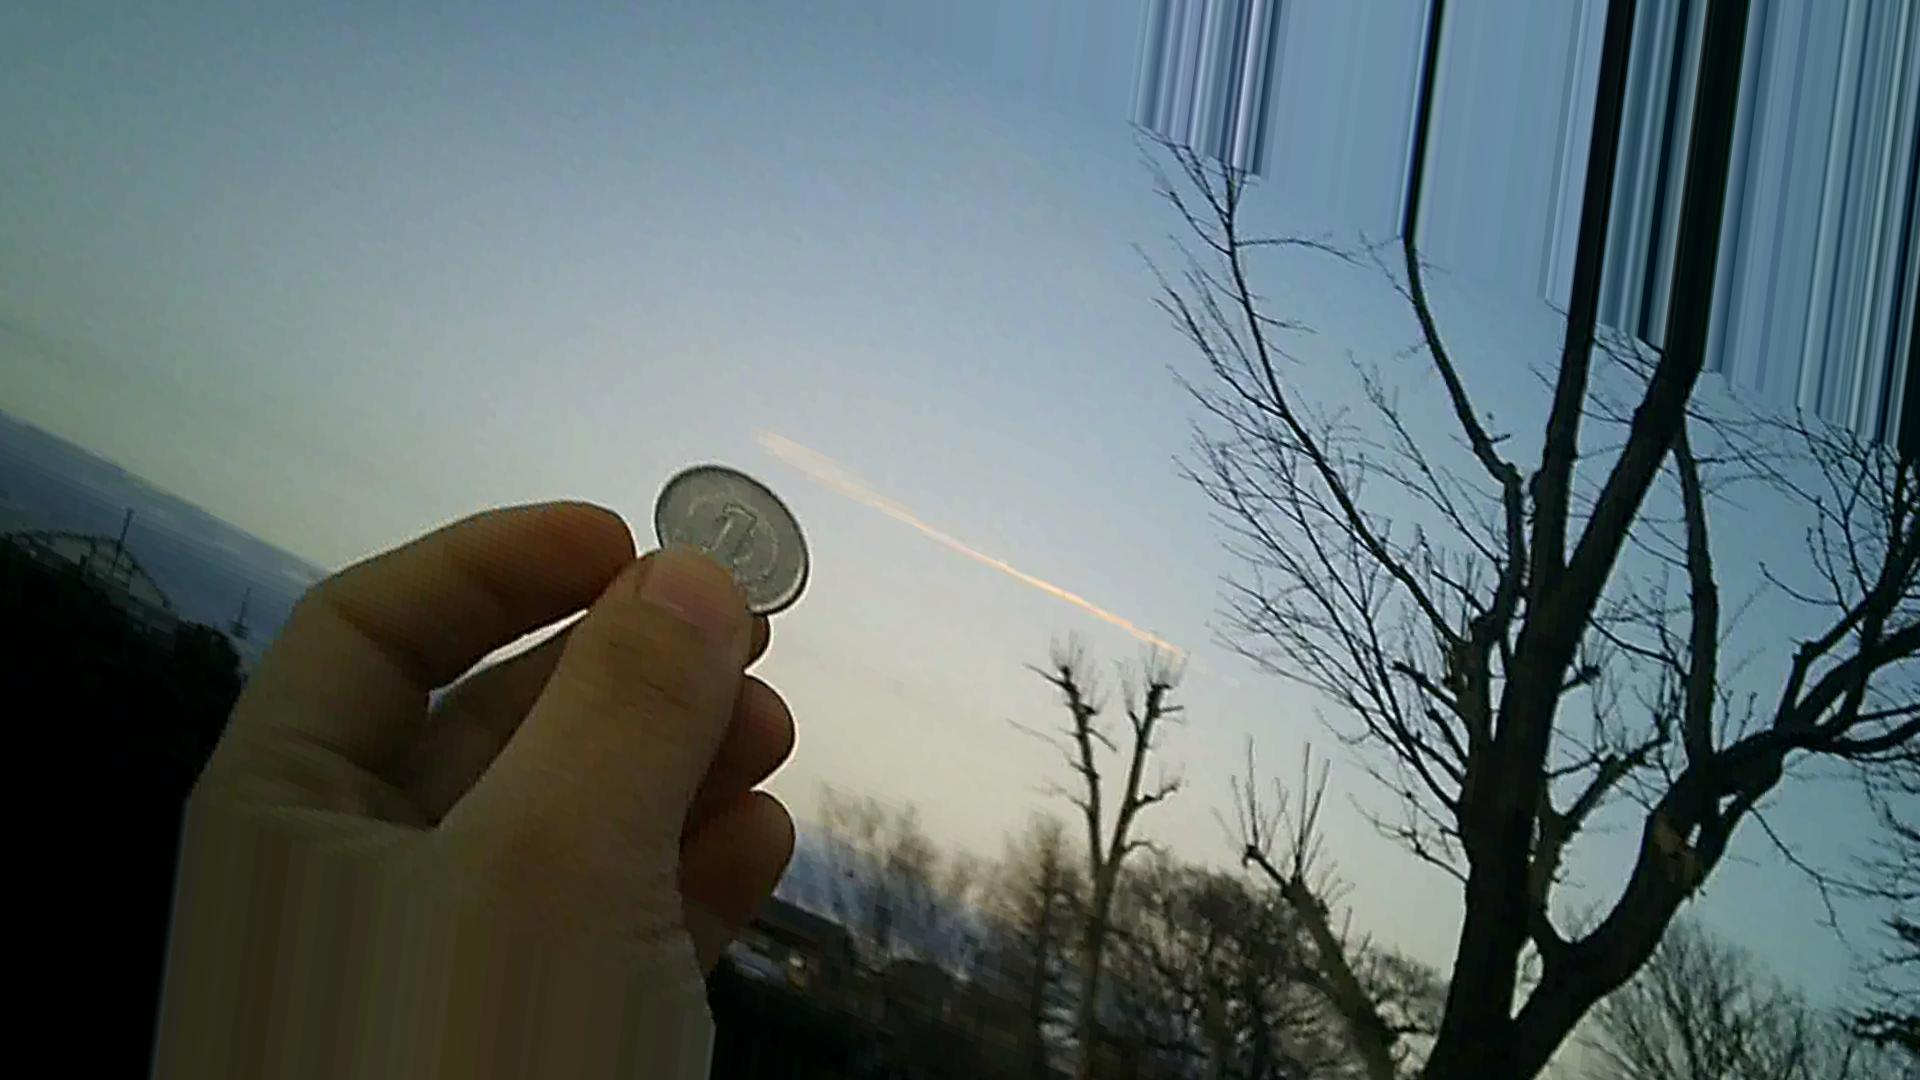1 Yen: (645, 455, 811, 616)
